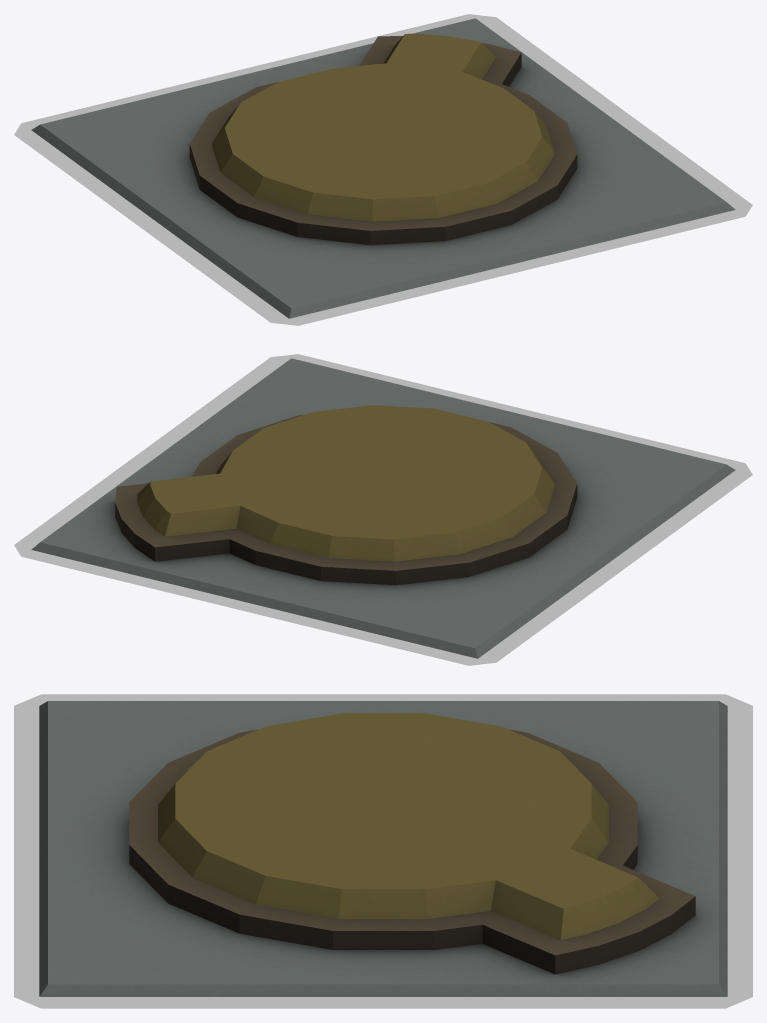
File: 4x4_rocket_silo.FBX
3 renders of one model, top to bottom at view 1: azimuth 30°, elevation 25°; view 2: azimuth 150°, elevation 25°; view 3: azimuth 270°, elevation 25°, orthographic. The views are drawn at different scales.
Visible parts, largest first — view 1: 4x4_rocket_silo, 4x4_rocket_silo_soft_shadow; view 2: 4x4_rocket_silo, 4x4_rocket_silo_soft_shadow; view 3: 4x4_rocket_silo, 4x4_rocket_silo_soft_shadow.
Part boxes in pixels (x1,y1,x2,y2): 4x4_rocket_silo: [31, 18, 735, 318]; 4x4_rocket_silo_soft_shadow: [14, 14, 752, 325]; 4x4_rocket_silo: [31, 358, 735, 658]; 4x4_rocket_silo_soft_shadow: [14, 354, 752, 665]; 4x4_rocket_silo: [39, 701, 727, 996]; 4x4_rocket_silo_soft_shadow: [14, 694, 752, 1008].
Bounding box in the file's own units: 4005 × 312 × 3982.
